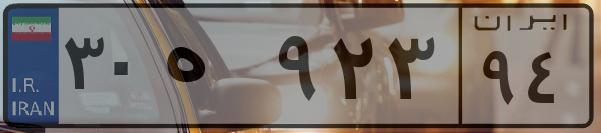0: (110, 28, 158, 98)
2: (330, 28, 385, 110)
3: (385, 28, 445, 110), (57, 26, 110, 100)
4: (525, 38, 570, 115)
9: (270, 28, 330, 110), (475, 38, 525, 113)
ه: (158, 20, 270, 120)
